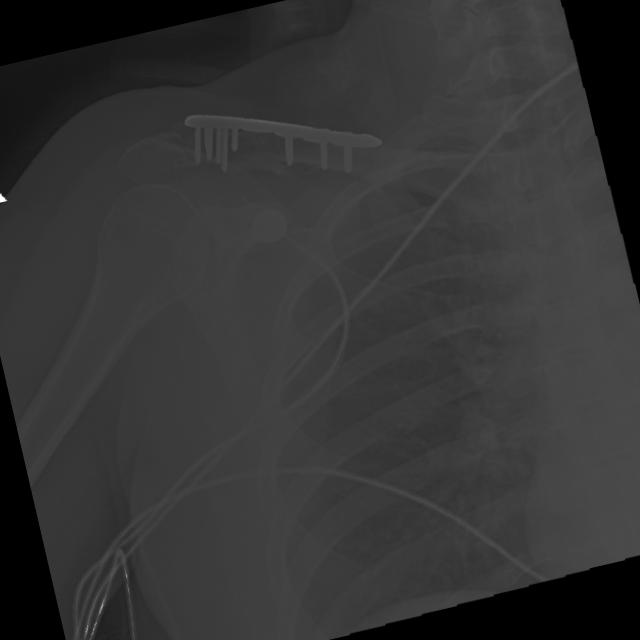shoulder fracture: (232, 132, 300, 182)
